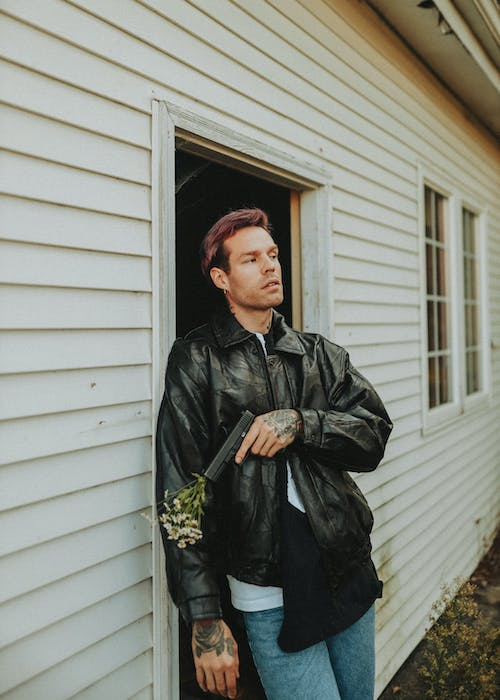gun: (199, 409, 259, 484)
